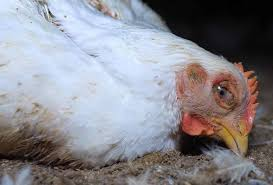avian Influenza: (2, 1, 268, 177)
